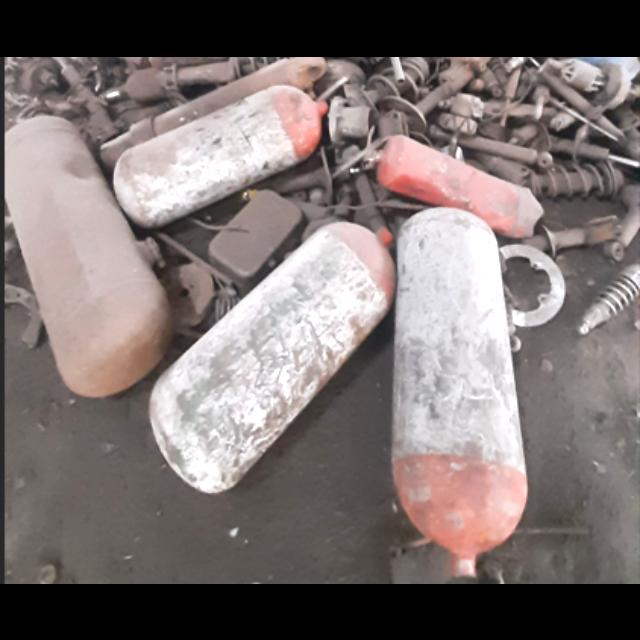Cylinders: (154, 217, 397, 489), (391, 202, 530, 582), (112, 82, 328, 231)
Shock Absorber: (580, 254, 638, 343)
